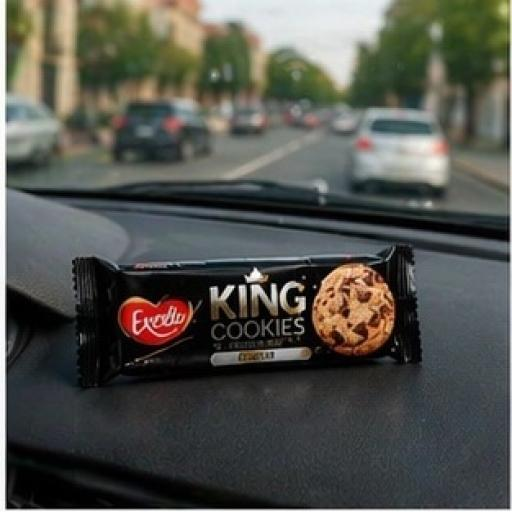king-cooking: (35, 197, 468, 430)
